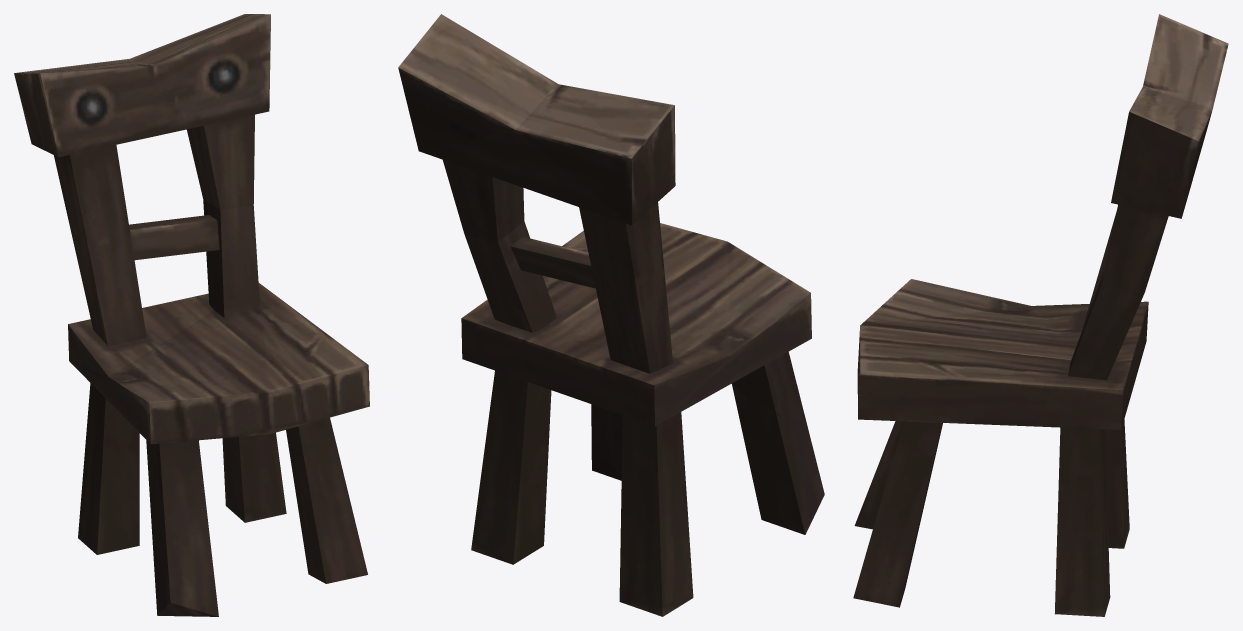
Rendered from yizi.FBX.
The picture shows the model from 3 angles, left to right: view 1: azimuth 30°, elevation 25°; view 2: azimuth 150°, elevation 25°; view 3: azimuth 270°, elevation 25°; orthographic projection. The views are drawn at different scales.
Parts seen in each view (by area): view 1: 对象004; view 2: 对象004; view 3: 对象004.
Part boxes in pixels (x1,y1,x2,y2): 对象004: (14,14,369,616); 对象004: (398,14,824,616); 对象004: (853,14,1228,616).
Bounding box in the file's own units: 0.6553 × 1.32 × 0.8607.
